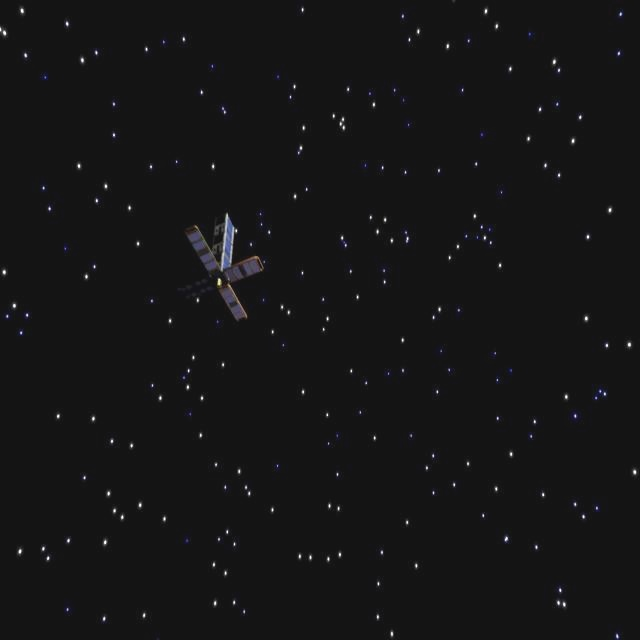medium_debris: (187, 197, 268, 324)
